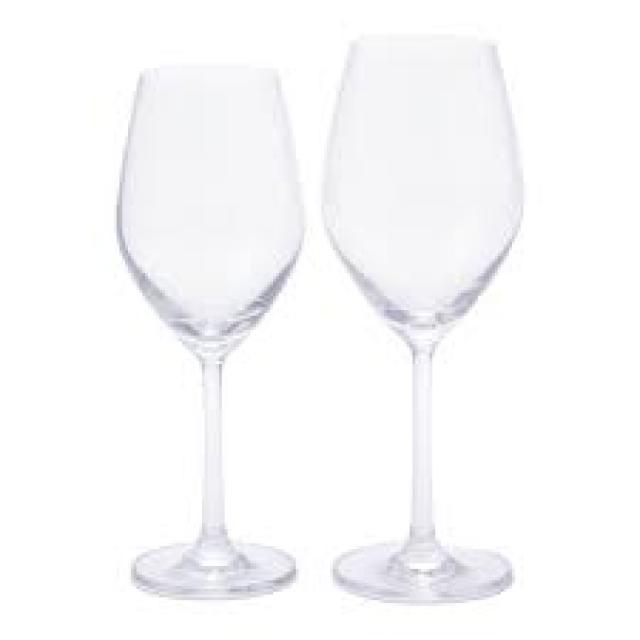Glass: (322, 36, 522, 600), (113, 59, 304, 597)
